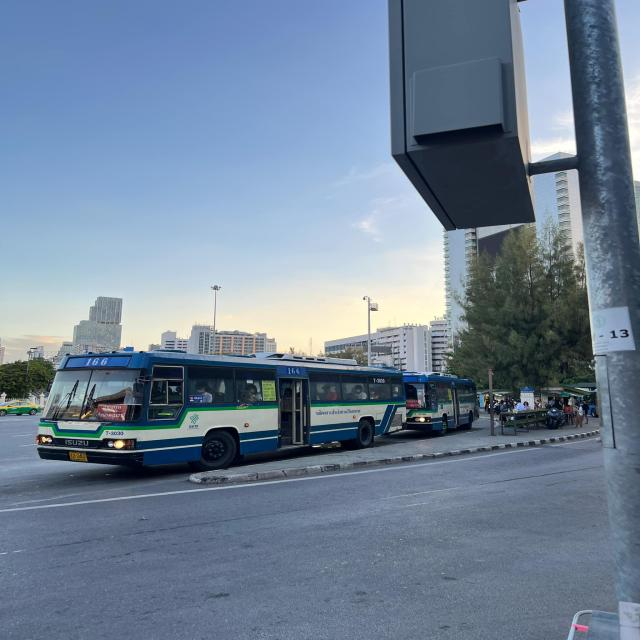BMTA-bus: (34, 345, 410, 470), (398, 368, 482, 434)
Bus-Line-Number: (83, 355, 113, 368), (286, 366, 302, 376)
Destination-Sign-Extra-Bus: (95, 404, 129, 421)
